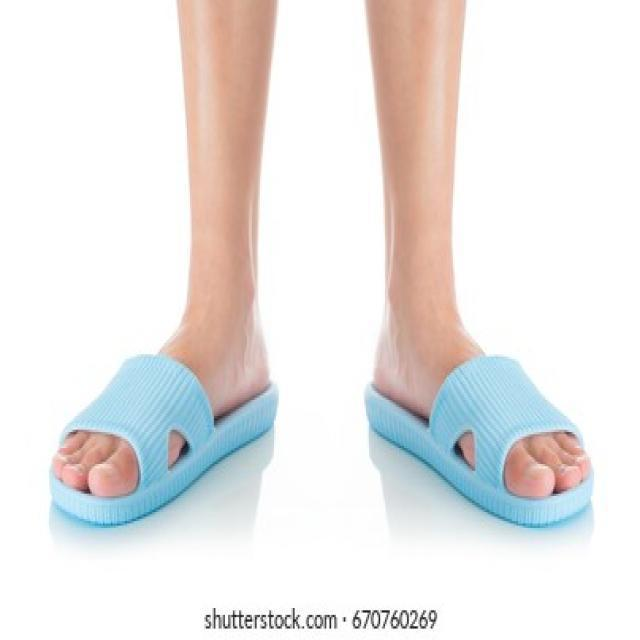No_Shoe: (363, 324, 609, 548), (38, 333, 279, 539)
